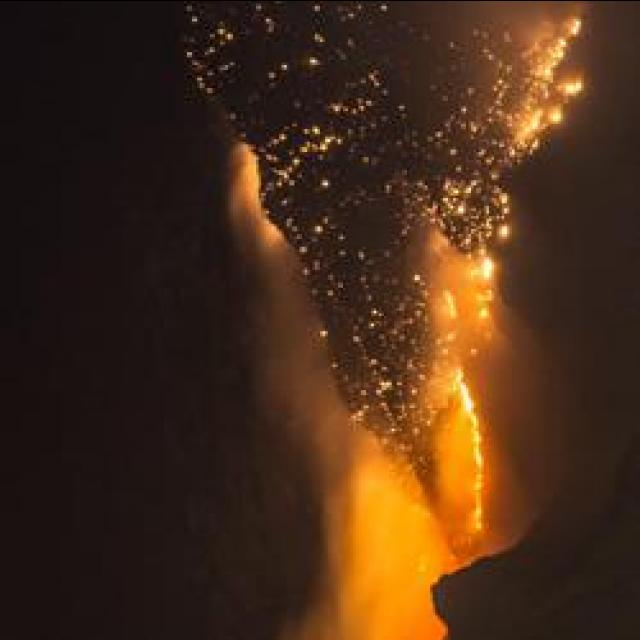fire: (467, 260, 493, 302), (524, 110, 549, 148), (454, 380, 476, 416), (541, 57, 557, 81), (566, 80, 578, 96)
smoke: (320, 535, 416, 623), (266, 346, 334, 434), (450, 9, 514, 58)
